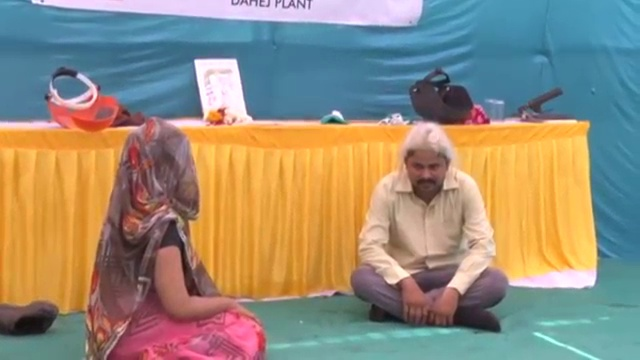helmet_off: (112, 117, 202, 220), (404, 124, 453, 193)
person: (85, 115, 269, 360), (346, 123, 508, 332)
